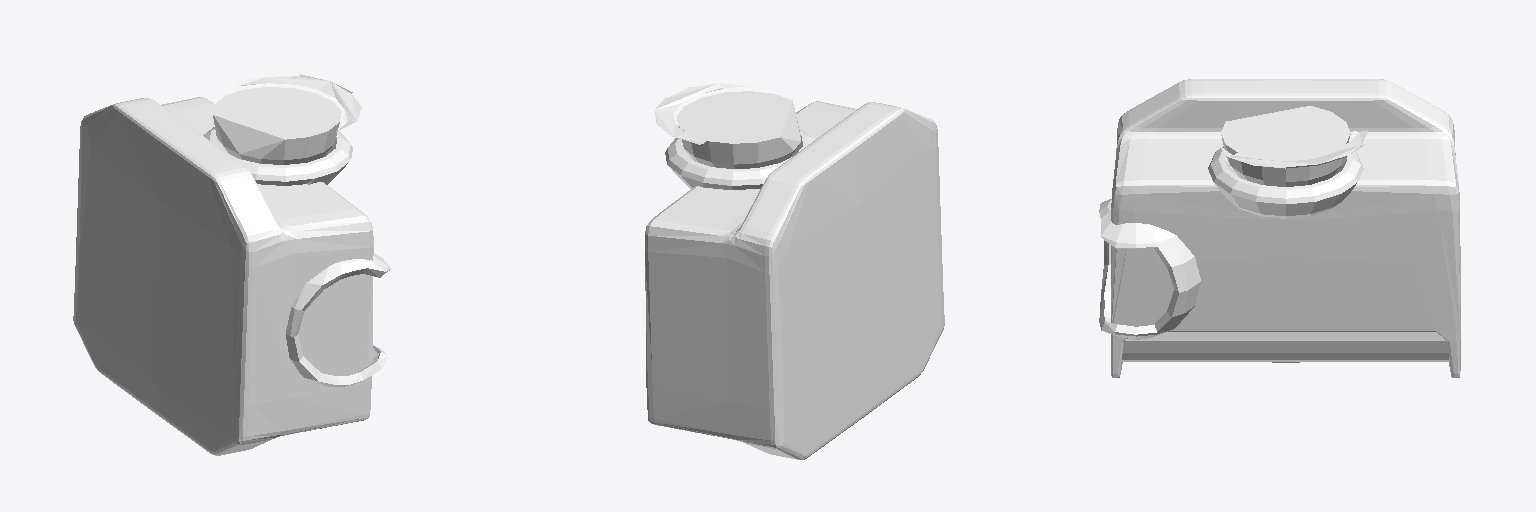
File: Mano_Izquierda.obj
3 renders of one model, left to right at view 1: azimuth 30°, elevation 25°; view 2: azimuth 150°, elevation 25°; view 3: azimuth 270°, elevation 25°, orthographic.
Parts seen in each view (by area): view 1: rig_test.002; view 2: rig_test.002; view 3: rig_test.002.
Boxes of the visible parts, <box> form: rig_test.002: <box>73,74,390,455</box>; rig_test.002: <box>645,83,944,459</box>; rig_test.002: <box>1099,79,1460,377</box>.
Bounding box in the file's own units: 18 × 23.83 × 28.28.